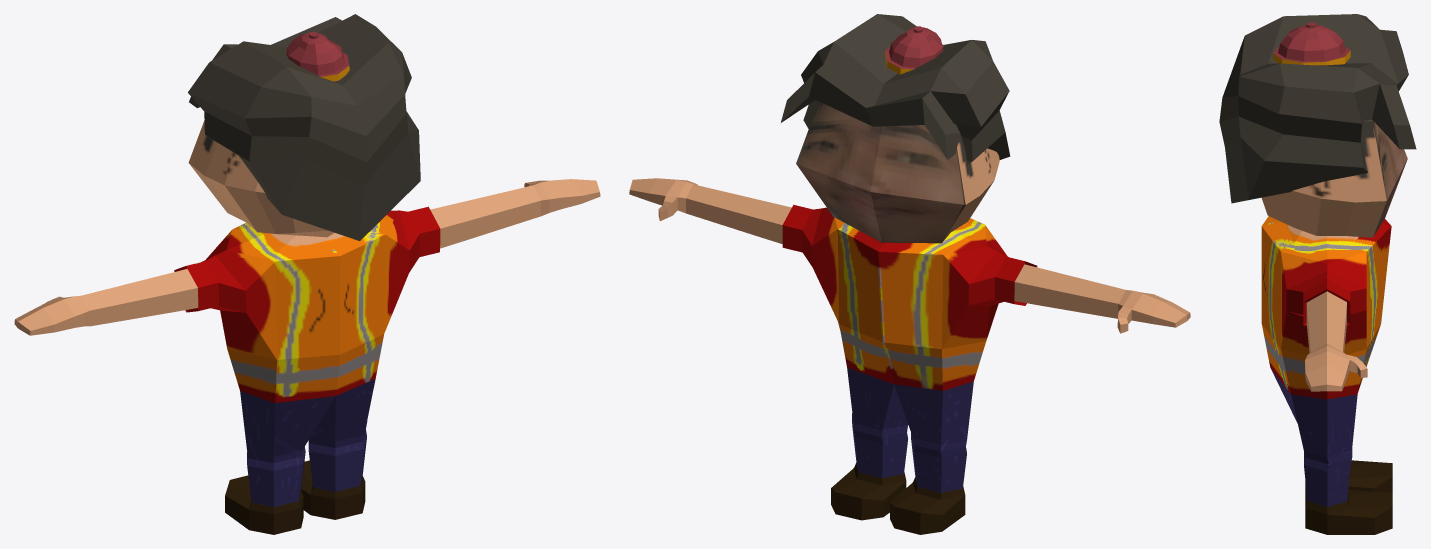
Rendered from Norvel 1.fbx.
3 renders of one model, left to right at view 1: azimuth 30°, elevation 25°; view 2: azimuth 150°, elevation 25°; view 3: azimuth 270°, elevation 25°, orthographic. The views are drawn at different scales.
Visible parts, largest first — view 1: Hair, Hat; view 2: Hair, Hat; view 3: Hair, Hat.
Part boxes in pixels (<box>): Hair: <box>14,14,600,534</box>; Hat: <box>285,31,349,81</box>; Hair: <box>629,14,1190,534</box>; Hat: <box>885,26,943,74</box>; Hair: <box>1219,14,1416,534</box>; Hat: <box>1273,22,1350,65</box>.
Size of the model in its own units: 1369 by 1104 by 408.
Materials: 5 (2 with a texture image).
